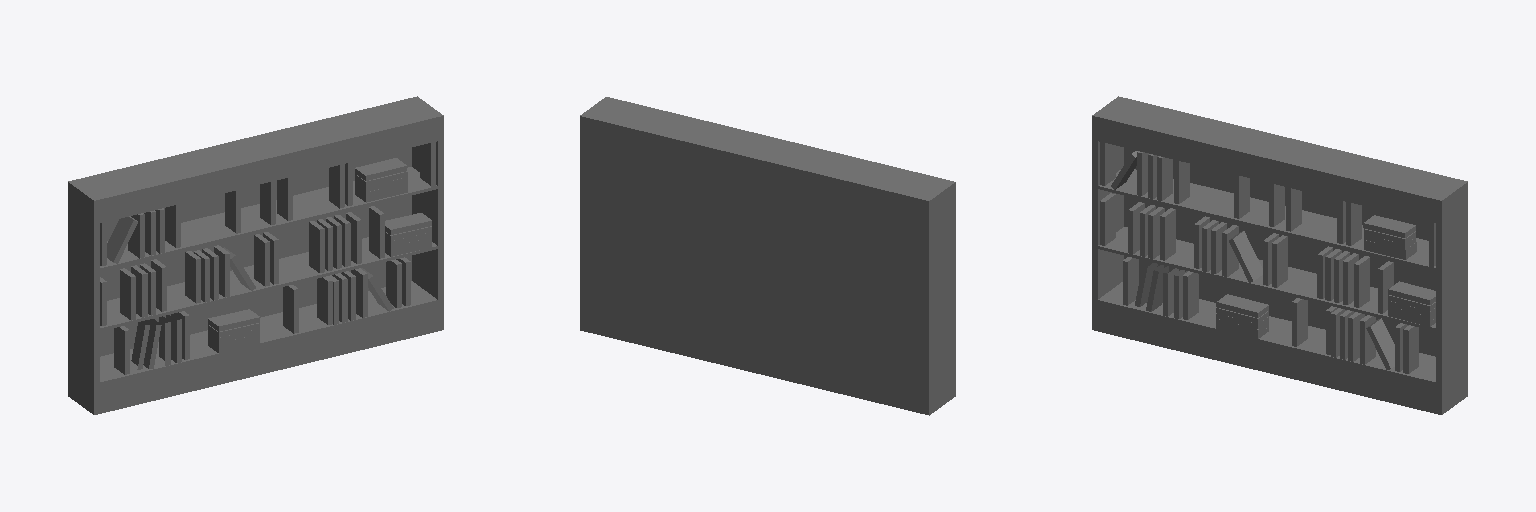
File: Shelves_Temp_obj.obj
The picture shows the model from 3 angles: view 1: azimuth 30°, elevation 25°; view 2: azimuth 150°, elevation 25°; view 3: azimuth 330°, elevation 25°; orthographic projection.
Visible parts, largest first — view 1: Shelves_Temp_obj.obj; view 2: Shelves_Temp_obj.obj; view 3: Shelves_Temp_obj.obj.
Boxes of the visible parts, <box> form: Shelves_Temp_obj.obj: <box>68,96,443,414</box>; Shelves_Temp_obj.obj: <box>580,97,955,415</box>; Shelves_Temp_obj.obj: <box>1092,96,1467,414</box>.
Size of the model in its own units: 610 by 358 by 81.